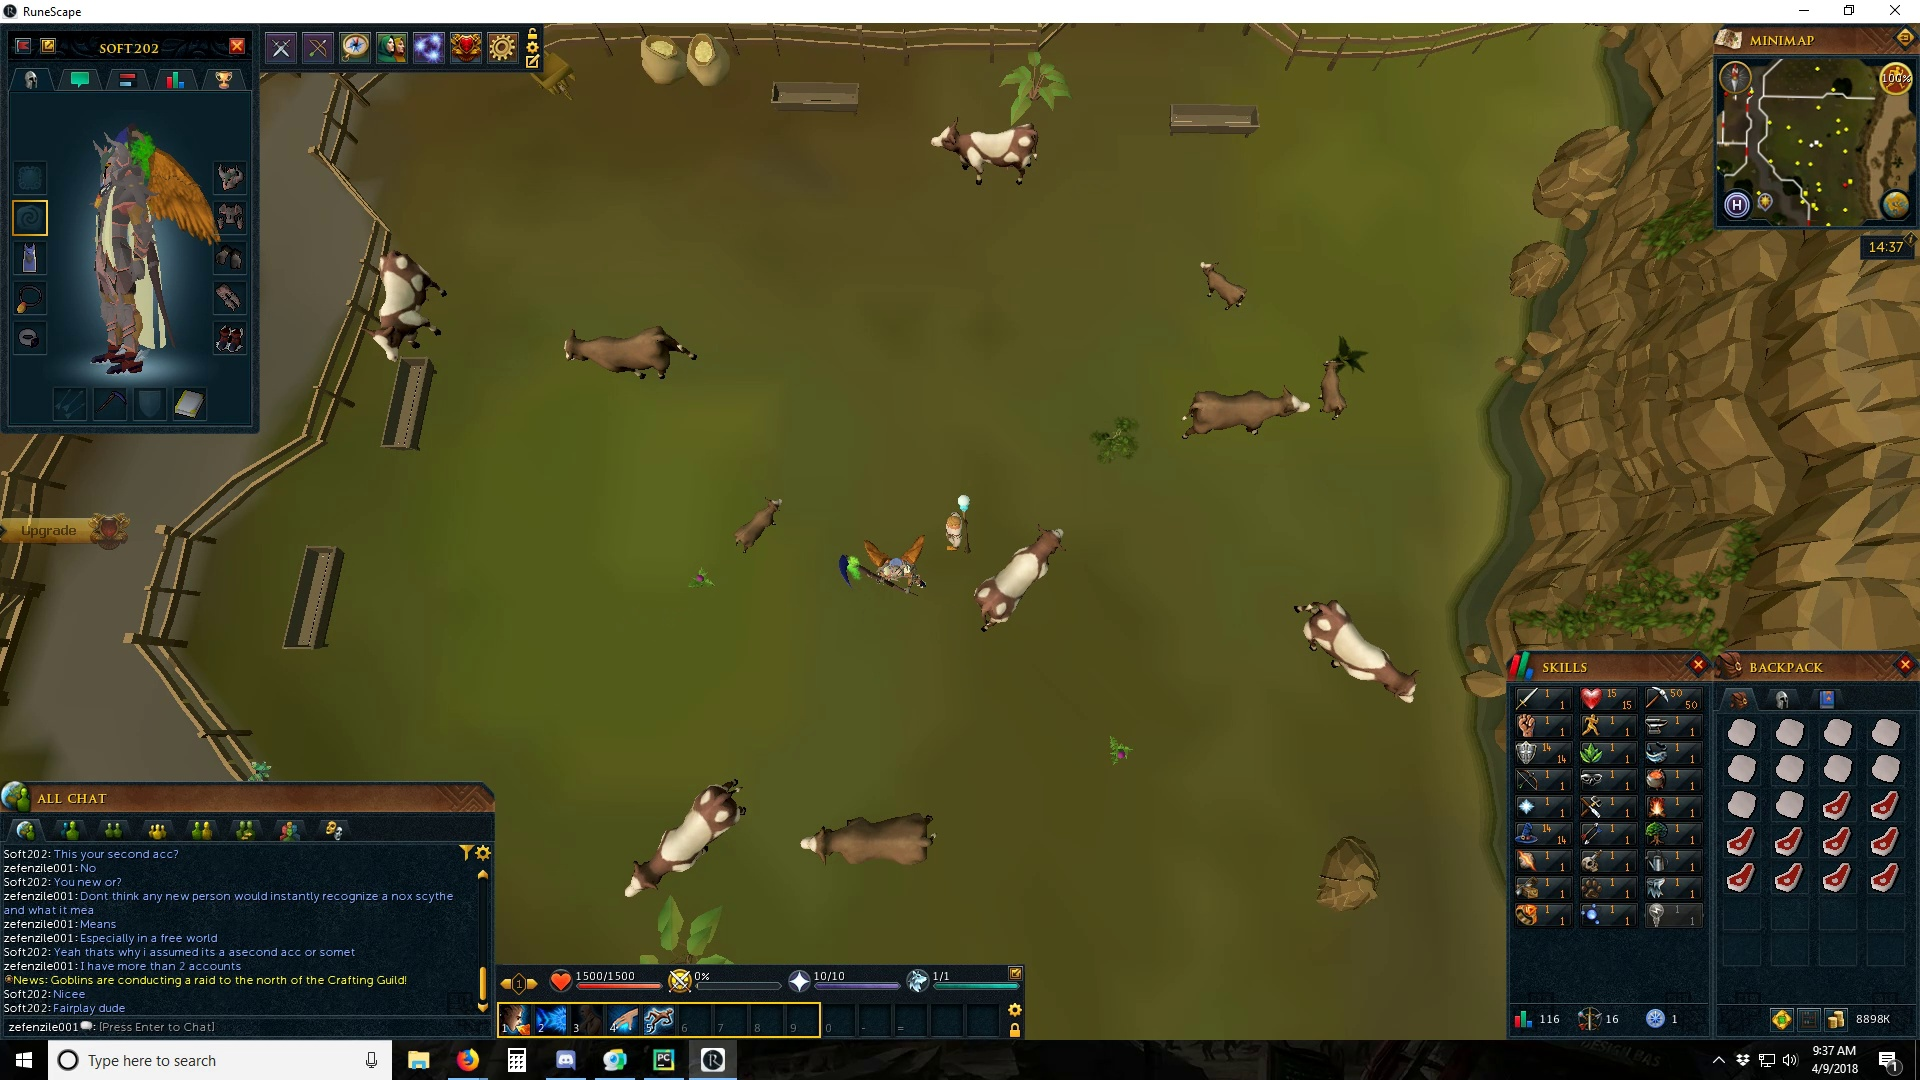calf: (729, 492, 786, 559), (1197, 257, 1250, 310), (1316, 357, 1349, 427)
cow: (621, 775, 750, 906), (1292, 600, 1424, 705), (975, 524, 1069, 632), (365, 248, 442, 363), (554, 327, 700, 385), (800, 810, 939, 869), (928, 117, 1043, 189), (1180, 384, 1312, 444)
